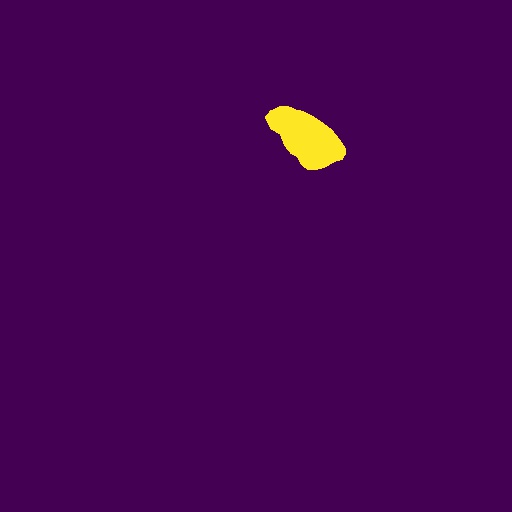Gliomia_tumour: (265, 106, 346, 170)
